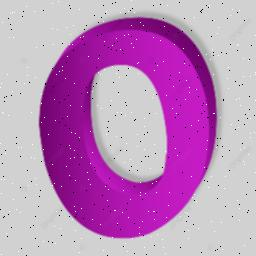o: (26, 10, 244, 246)
